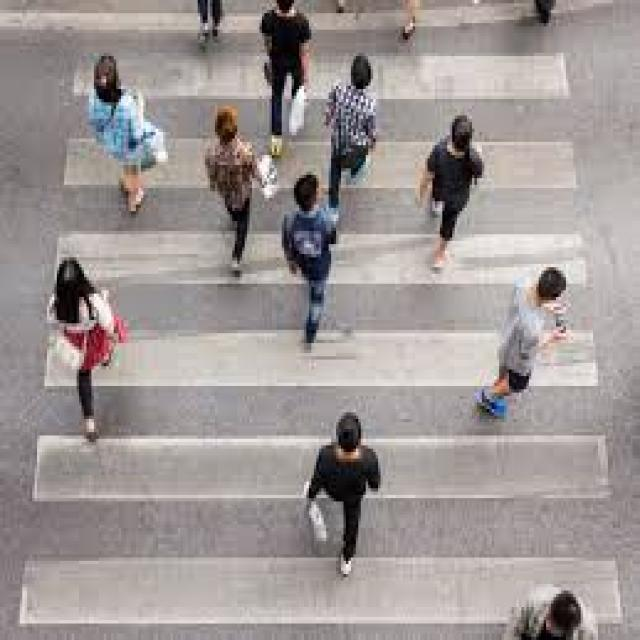Pedestrians: (40, 241, 134, 445), (475, 267, 588, 419), (296, 412, 396, 578), (415, 105, 489, 274), (202, 102, 272, 280), (92, 53, 158, 218), (282, 172, 344, 346), (264, 3, 324, 158), (324, 53, 376, 224), (494, 584, 615, 640)
